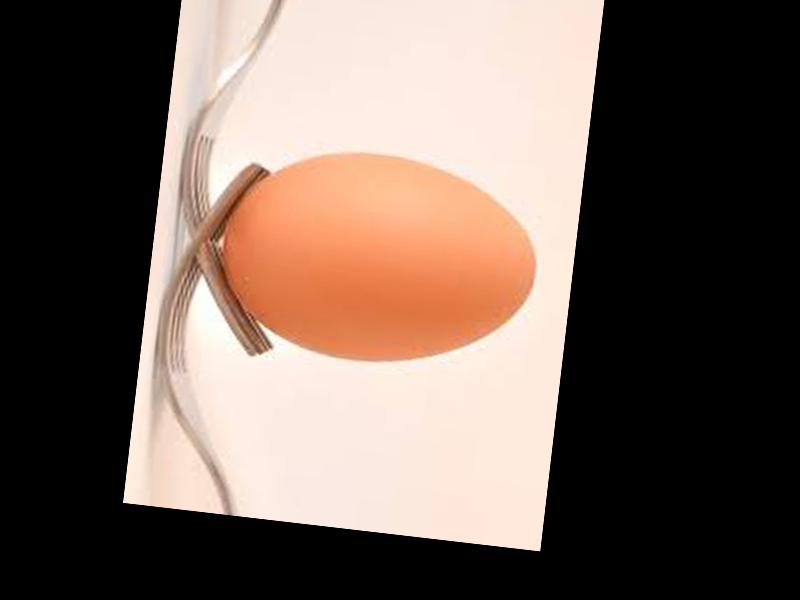Eggs: (212, 137, 546, 379)
